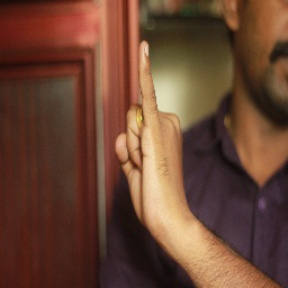I: (114, 37, 187, 212)
